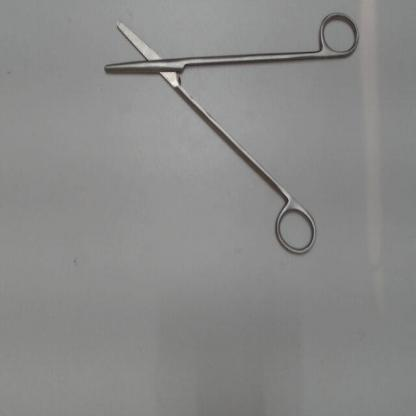9 Metzenbaum Scissors: (102, 3, 363, 258)
